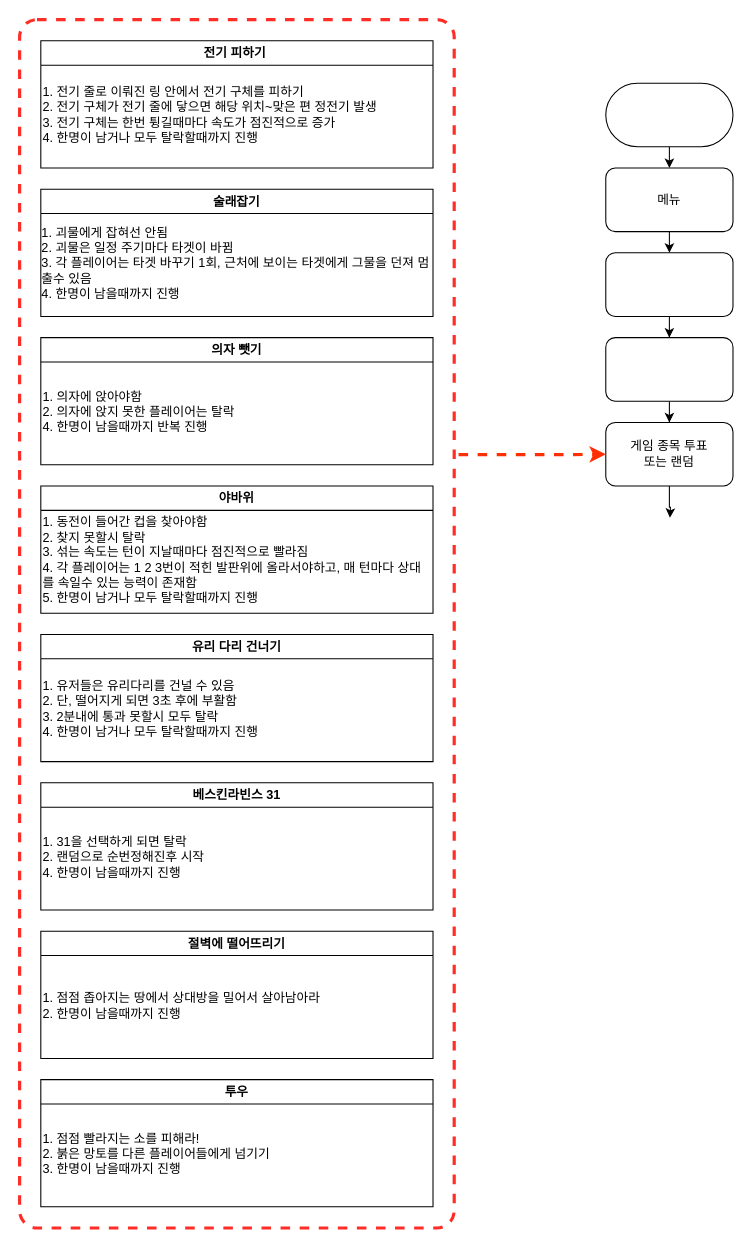
Image size: 752x1248. Some labels were removed from this diagram. Each missing label, with the centre of its shape:
"게임 시작" goes at [669,114].
"방 생성" goes at [669,284].
"인원 충족시 게임 시작" goes at [669,369].
